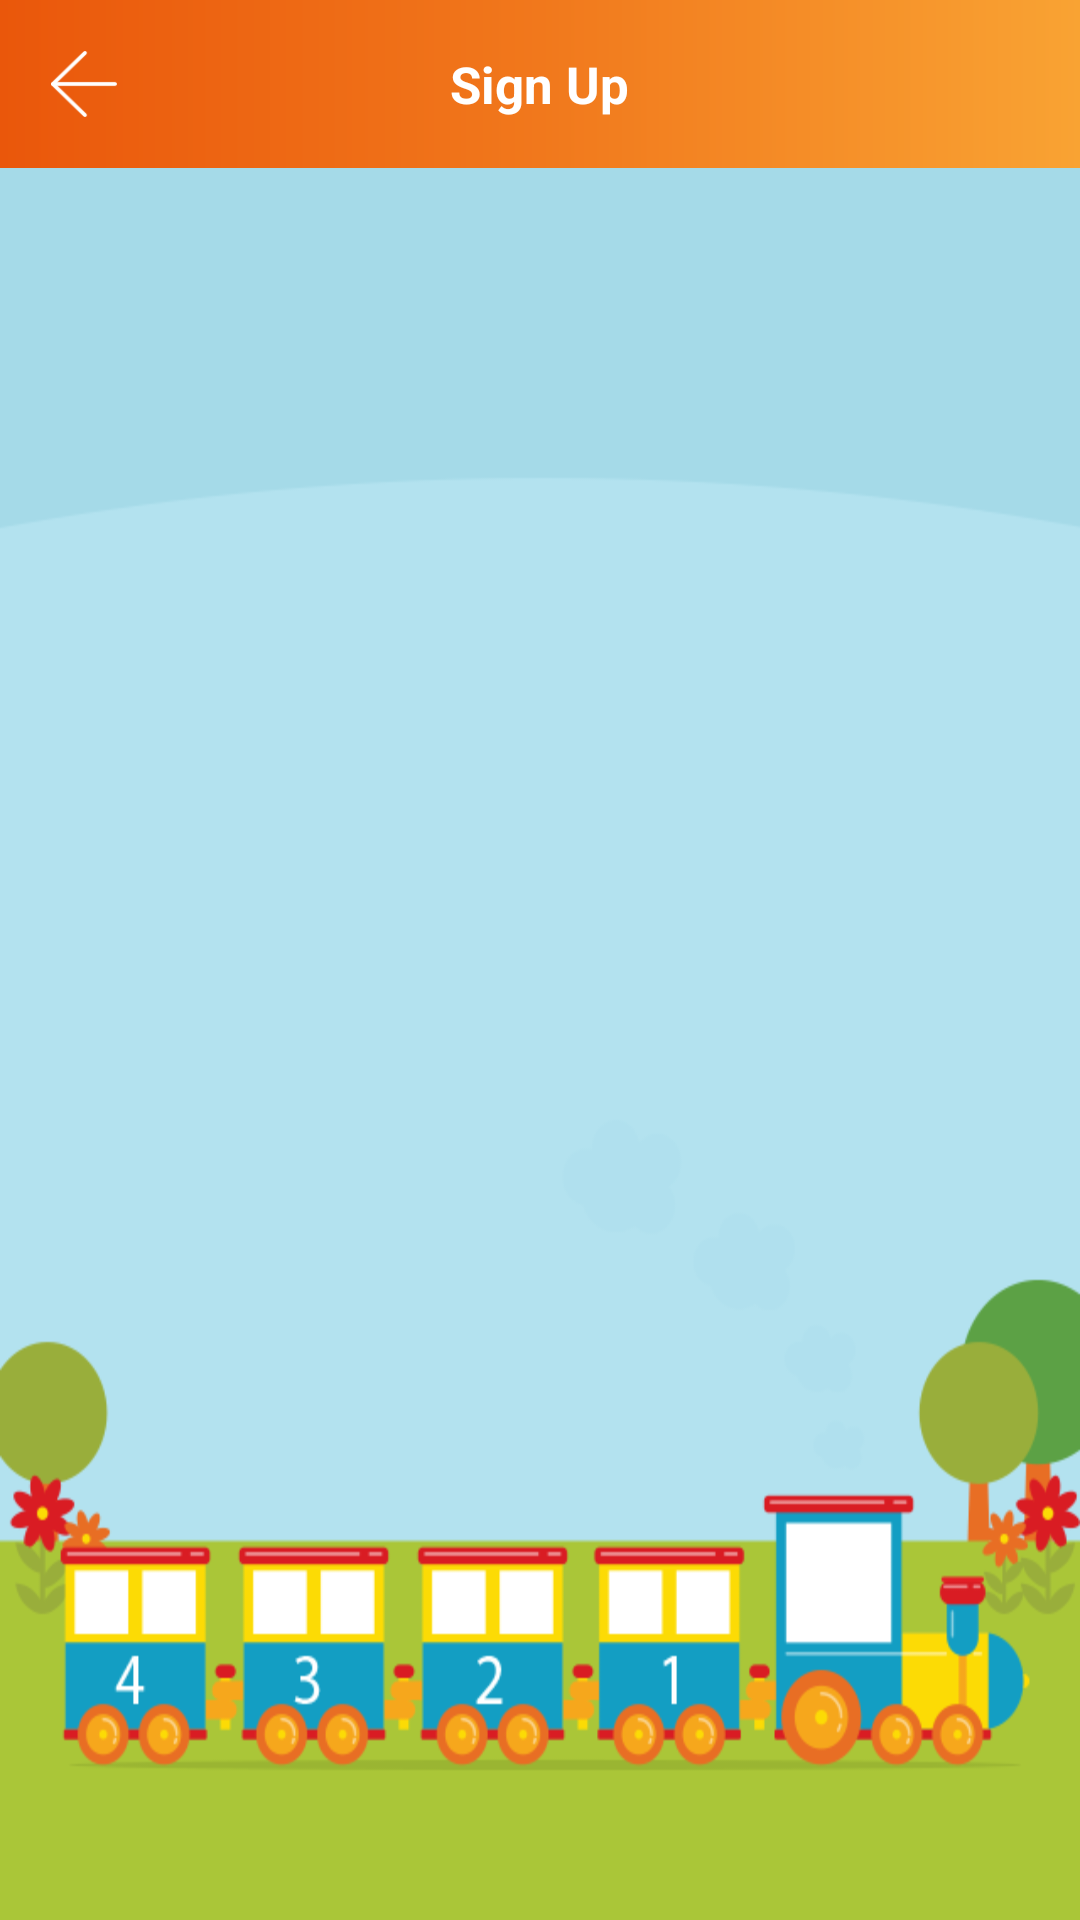

Screen size 1080px×1920px. Icon name, then its box in pixels as (x1, y1, x2, y2):
back arrow: (51, 51, 117, 117)
